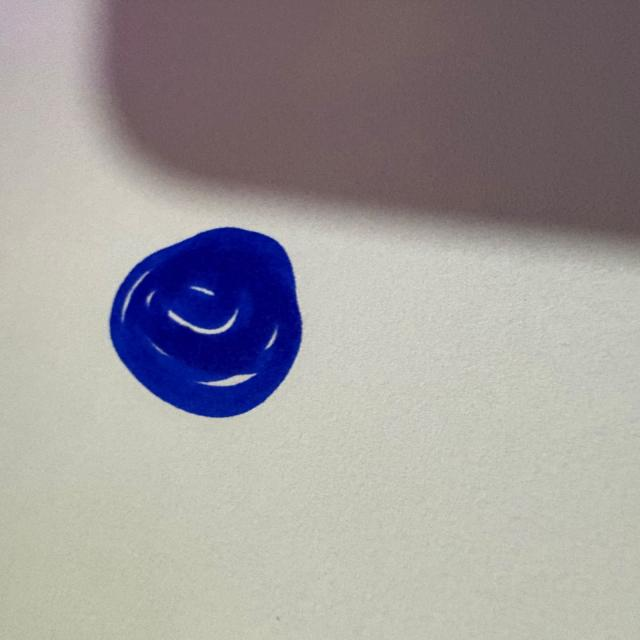Circle: (106, 221, 314, 427)
